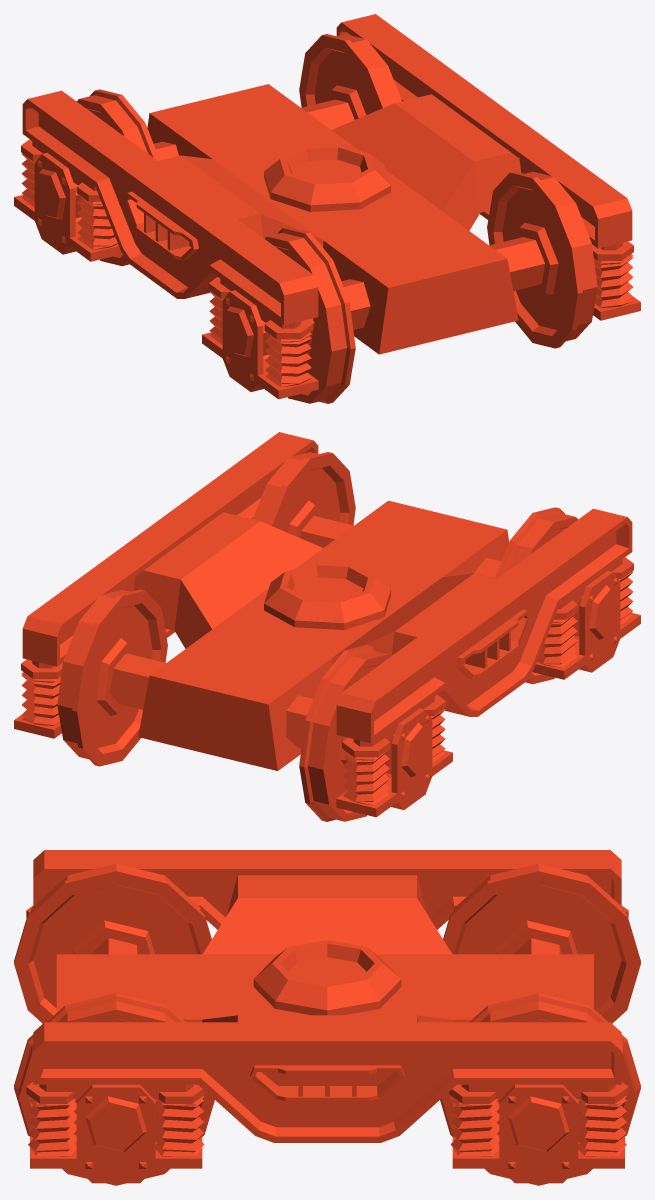
The model's file is SM_Train_Chassis_City.fbx.
3 renders of one model, top to bottom at view 1: azimuth 30°, elevation 25°; view 2: azimuth 150°, elevation 25°; view 3: azimuth 270°, elevation 25°, orthographic. The views are drawn at different scales.
Parts seen in each view (by area): view 1: SM_Train_Chassis_City_Base, SM_Train_Chassis_City_Wheel_F, SM_Train_Chassis_City_Wheel_B; view 2: SM_Train_Chassis_City_Base, SM_Train_Chassis_City_Wheel_B, SM_Train_Chassis_City_Wheel_F; view 3: SM_Train_Chassis_City_Base, SM_Train_Chassis_City_Wheel_B, SM_Train_Chassis_City_Wheel_F.
Part boxes in pixels (x1,y1,x2,y2): SM_Train_Chassis_City_Base: (14,14,640,399); SM_Train_Chassis_City_Wheel_F: (265,171,597,403); SM_Train_Chassis_City_Wheel_B: (77,34,401,266); SM_Train_Chassis_City_Base: (14,432,640,817); SM_Train_Chassis_City_Wheel_B: (57,589,389,821); SM_Train_Chassis_City_Wheel_F: (253,452,577,684); SM_Train_Chassis_City_Base: (26,850,628,1183); SM_Train_Chassis_City_Wheel_B: (440,863,640,1185); SM_Train_Chassis_City_Wheel_F: (14,863,214,1185).
Bounding box in the file's own units: 2.28 × 0.9673 × 2.97.
